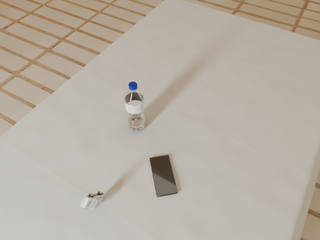bottle: (125, 82, 145, 131)
phone: (150, 155, 178, 197)
toy_car: (81, 191, 105, 209)
